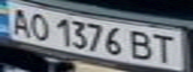1: (51, 15, 72, 47)
3: (66, 19, 87, 51)
6: (103, 25, 130, 57)
7: (84, 21, 106, 53)
A: (3, 4, 33, 37)
B: (124, 28, 157, 62)
O: (24, 10, 54, 42)
T: (148, 32, 184, 65)
